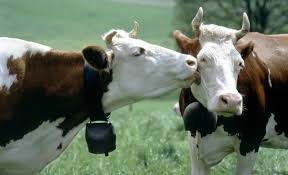cow: (85, 23, 198, 103), (186, 12, 252, 121)
